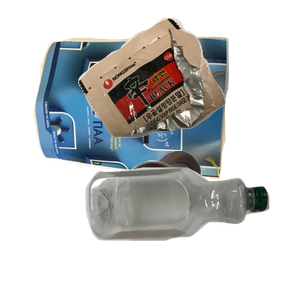glass: (90, 148, 300, 300)
paper: (31, 34, 252, 205)
plastic: (83, 165, 300, 300)
trash: (76, 15, 300, 145)
